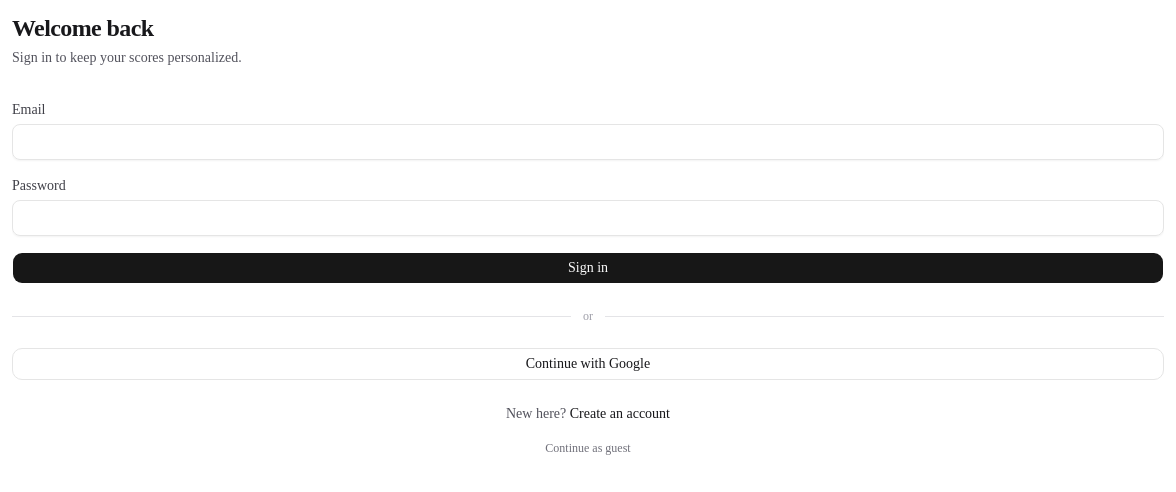
Test: LoginForm — render › toggles to sign-up mode and back
This screenshot has width=1176, height=492.
Click the button "Create an account" at (620, 414), box [570, 404, 670, 424]
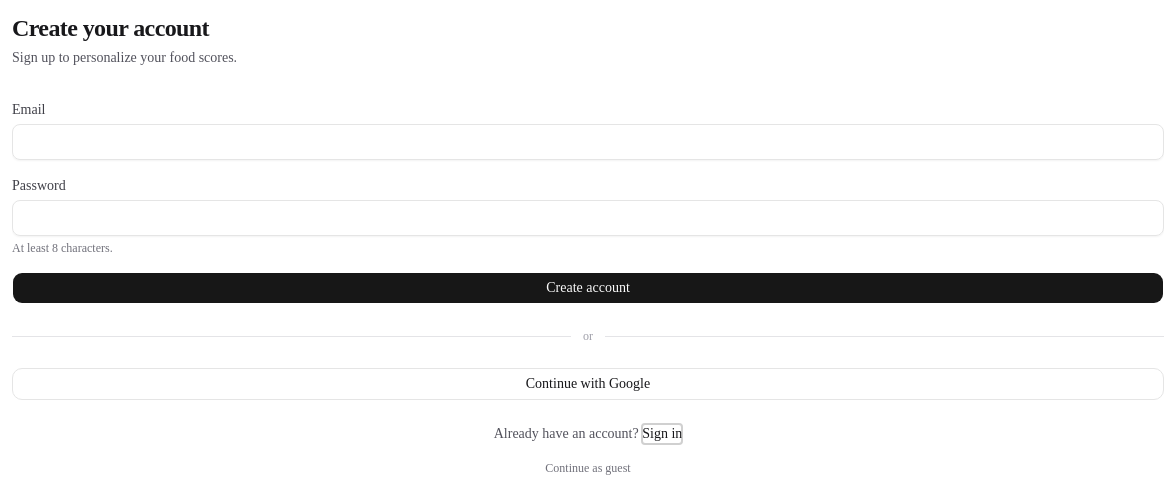
Expected: the button "Create account" is shown, [12, 272, 1164, 304]
Click the button "Sign in" at (662, 434), box [642, 424, 682, 444]
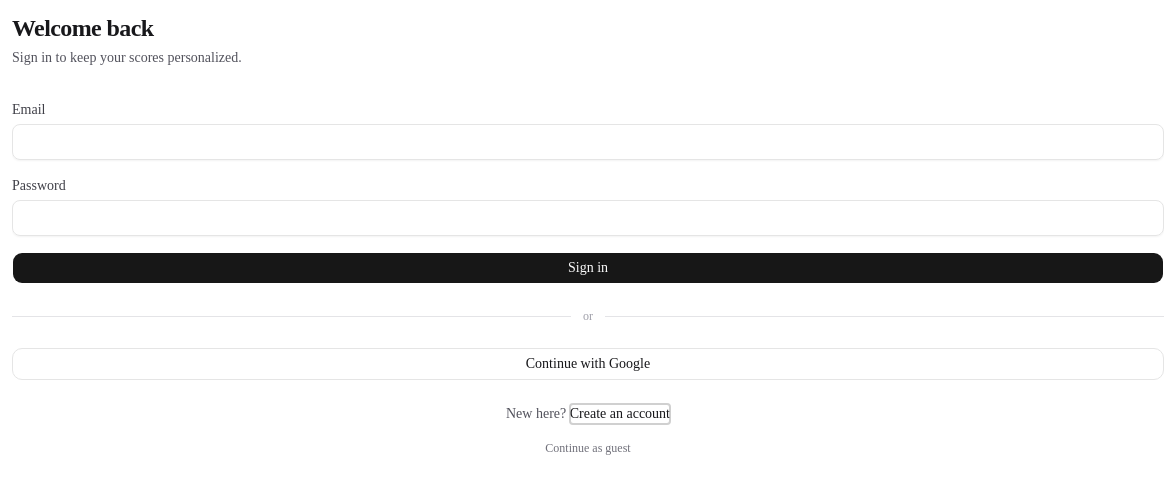
Expected: the button "Sign in" is shown, [12, 252, 1164, 284]
